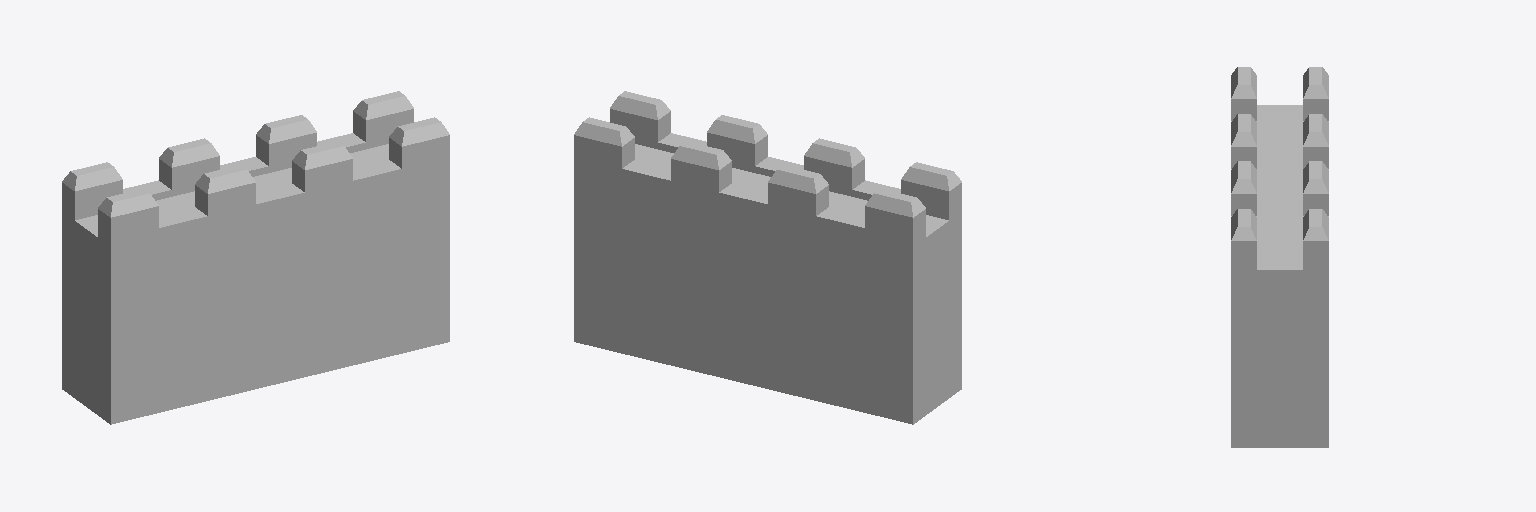
The model's file is CastleWall.obj.
The picture shows the model from 3 angles: view 1: azimuth 30°, elevation 25°; view 2: azimuth 150°, elevation 25°; view 3: azimuth 270°, elevation 25°; orthographic projection.
Parts seen in each view (by area): view 1: Cube; view 2: Cube; view 3: Cube.
Boxes of the visible parts, box(x1,y1,x2,y2) form: Cube: box(62, 91, 449, 424); Cube: box(574, 91, 961, 424); Cube: box(1231, 67, 1328, 447).
Bounding box in the file's own units: 120 × 73.77 × 30.